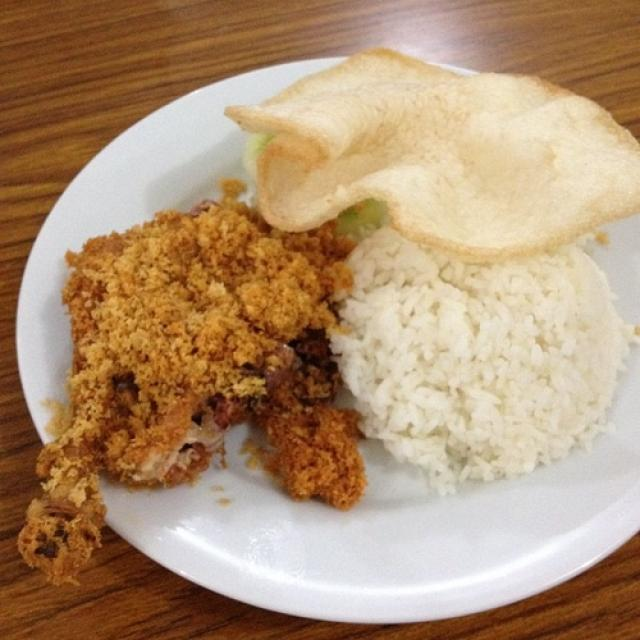鸡肉料理 含炸鸡: (18, 47, 617, 608)
